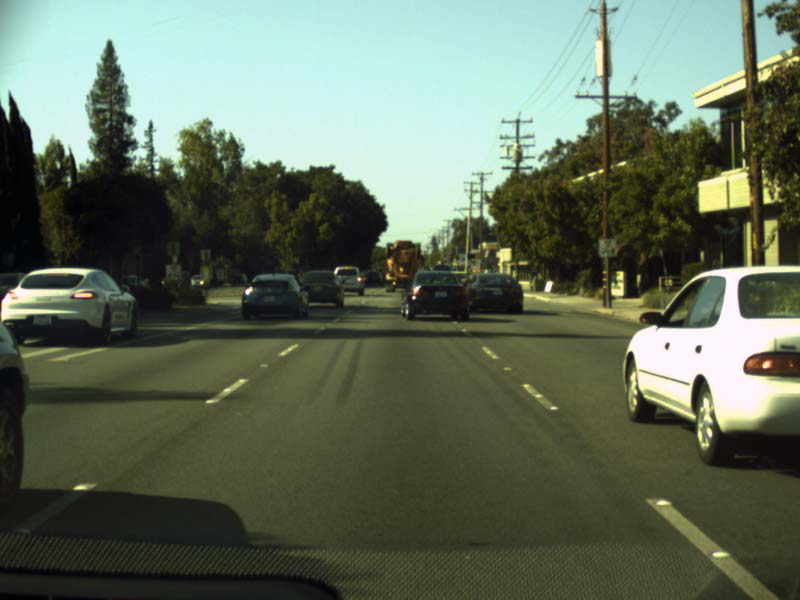Green: (455, 256, 459, 263)
